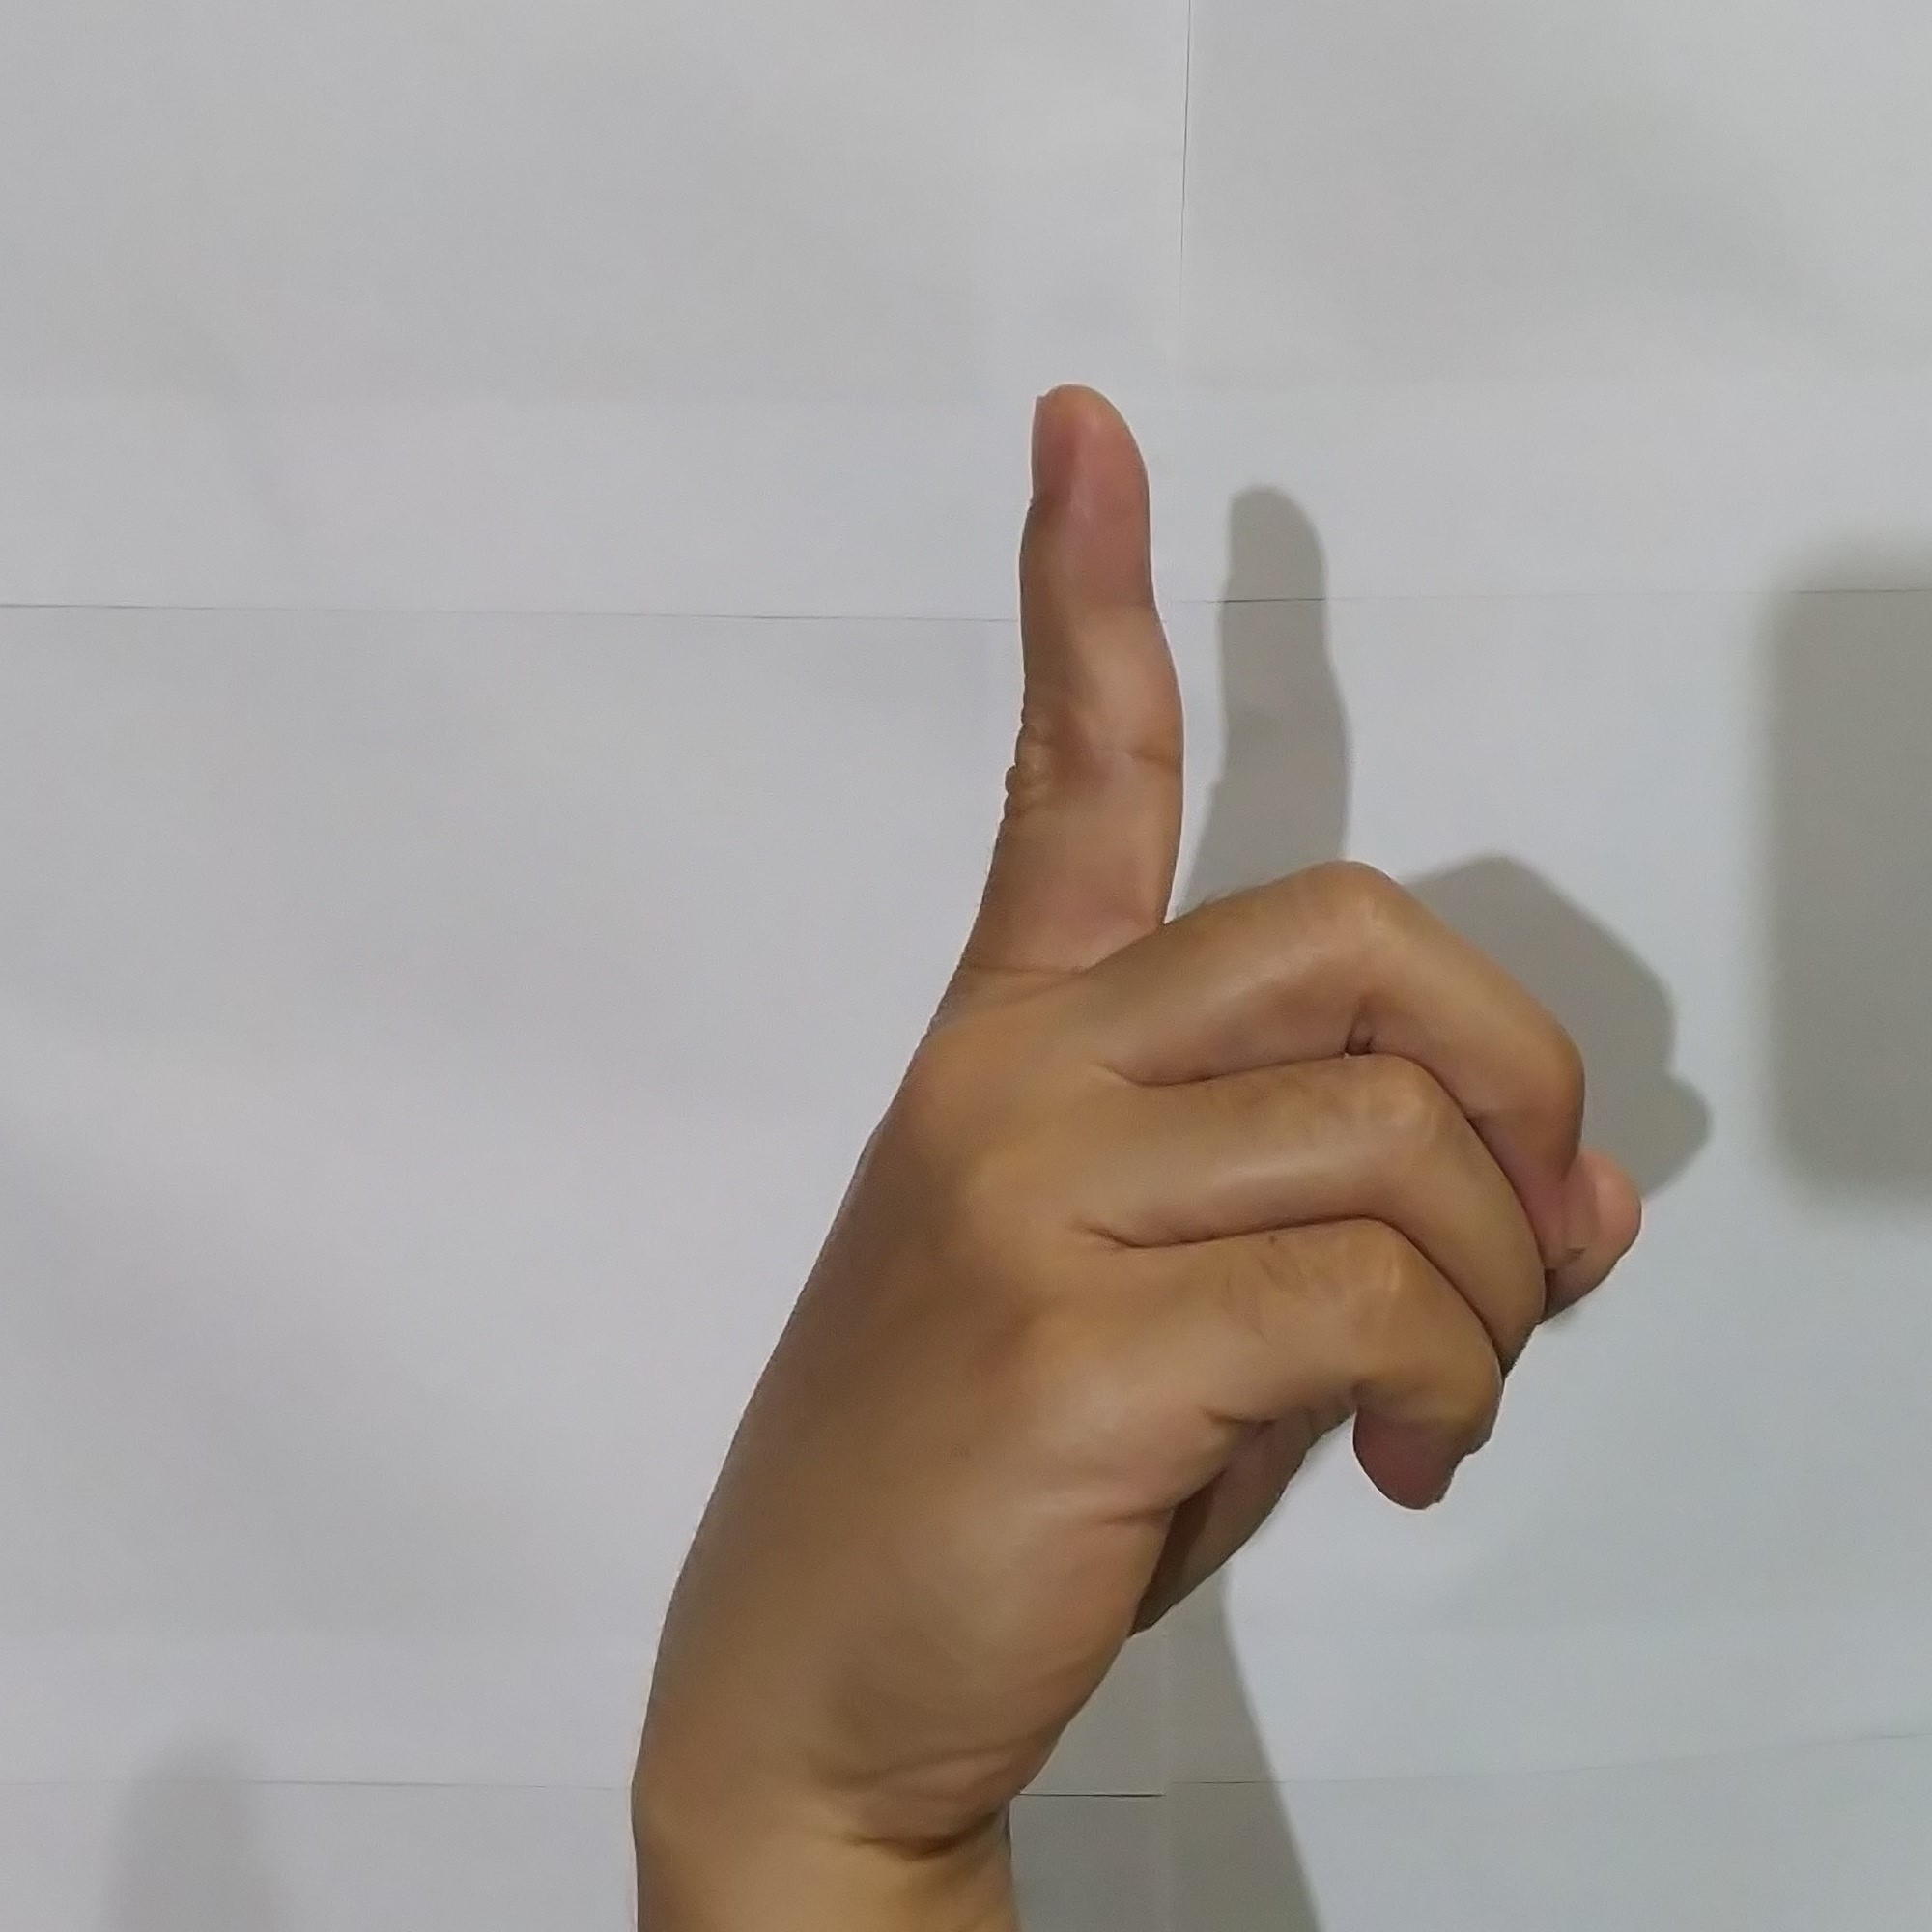D: (665, 356, 1663, 1789)
